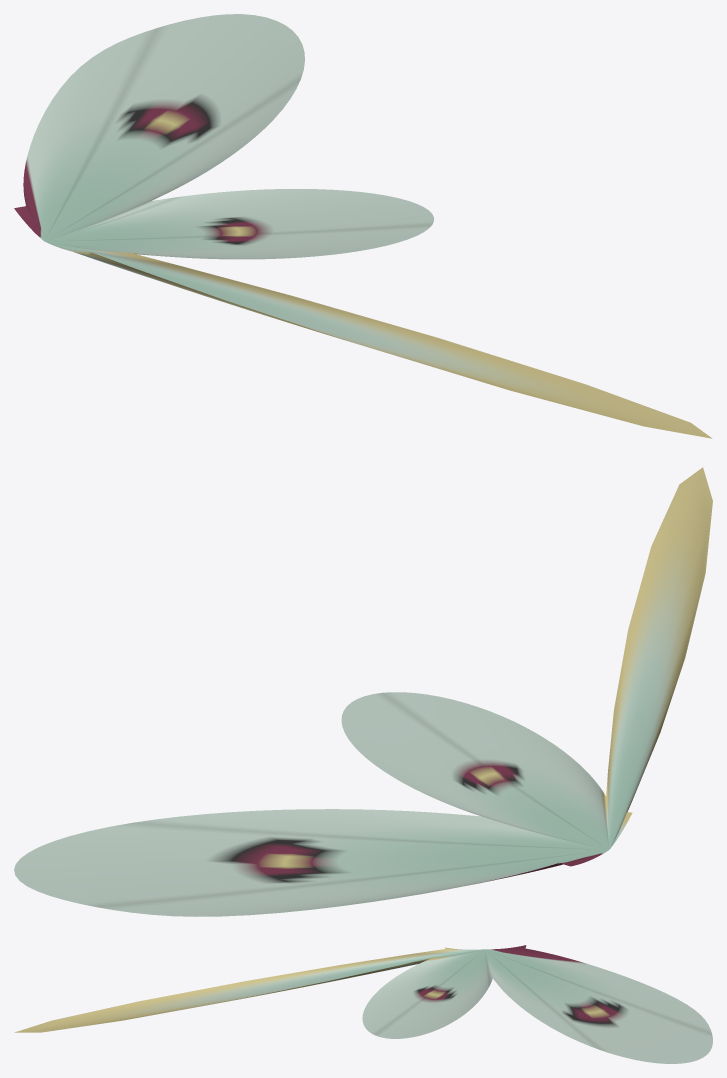
Rendered from Ga_Wing.fbx.
3 renders of one model, top to bottom at view 1: azimuth 30°, elevation 25°; view 2: azimuth 150°, elevation 25°; view 3: azimuth 270°, elevation 25°, orthographic. The views are drawn at different scales.
Visible parts, largest first — view 1: Ga_Wing; view 2: Ga_Wing; view 3: Ga_Wing.
Boxes of the visible parts, left/top/right/bottom form: Ga_Wing: left=14, top=14, right=712, bottom=438; Ga_Wing: left=14, top=467, right=712, bottom=916; Ga_Wing: left=14, top=945, right=712, bottom=1063.
Bounding box in the file's own units: 1.51 × 0.03 × 3.72.
